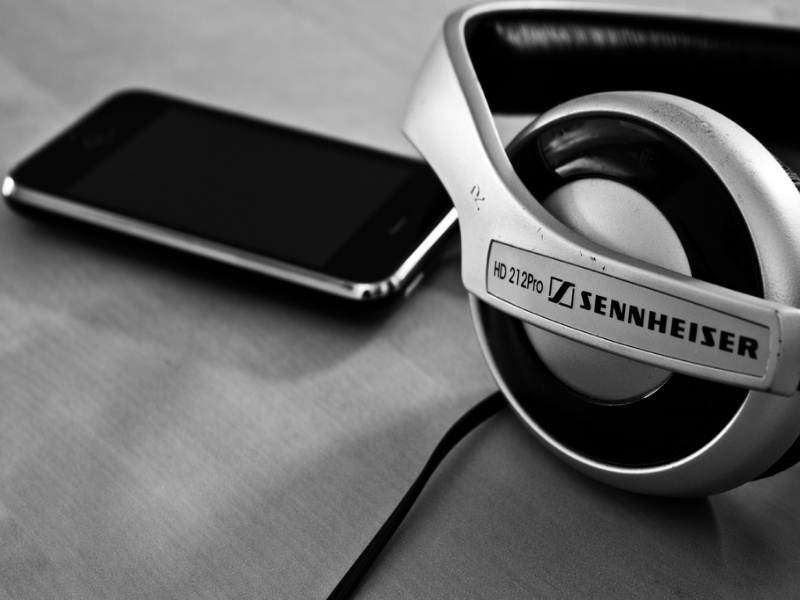cellphone: (3, 70, 468, 332)
